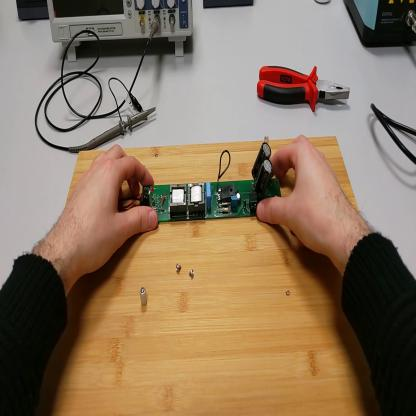hand: (62, 144, 159, 277), (260, 136, 345, 256)
high voltage board: (119, 143, 282, 223)
oscilloscope: (48, 2, 195, 62)
oscilloscope probe tip: (73, 108, 156, 150)
pliers: (257, 60, 352, 114)
socket: (17, 1, 49, 21)
welder station: (345, 2, 415, 47)
working area: (36, 135, 383, 415)
